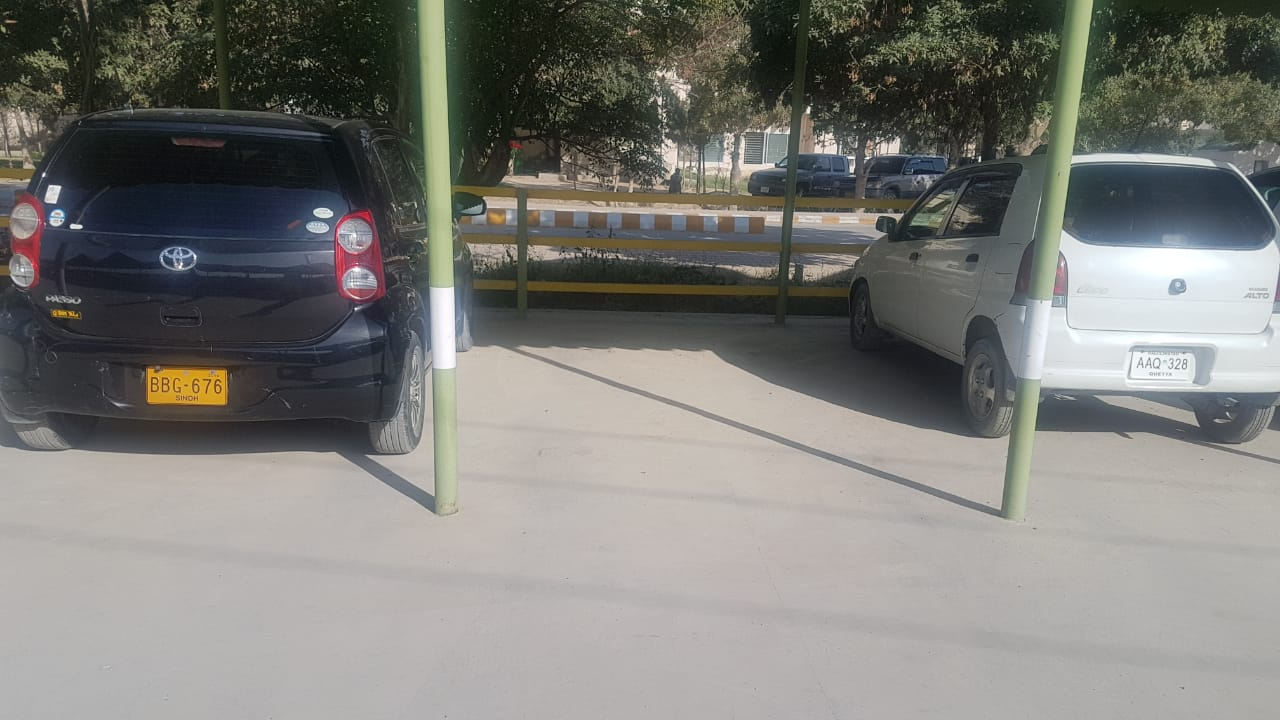license plate: (146, 368, 228, 405), (1133, 348, 1196, 379)
